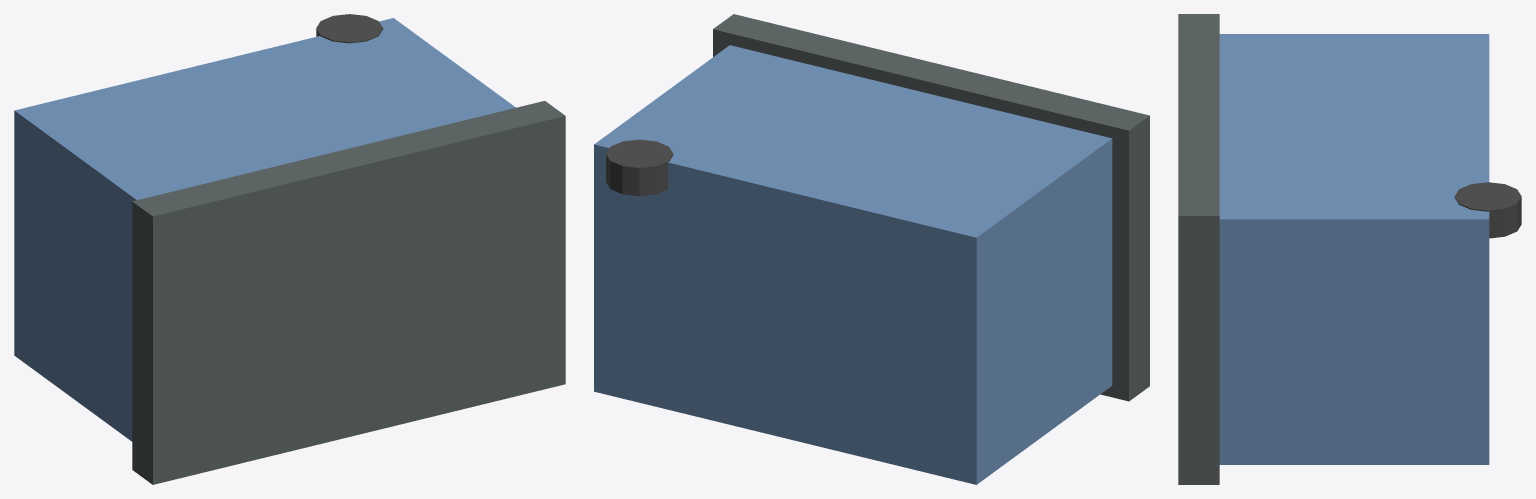
File: city_blue_dumpster.glb
3 renders of one model, left to right at view 1: azimuth 30°, elevation 25°; view 2: azimuth 150°, elevation 25°; view 3: azimuth 270°, elevation 25°, orthographic.
Visible parts, largest first — view 1: lid, body, wheel; view 2: body, lid, wheel; view 3: body, lid, wheel.
Part boxes in pixels (x1,y1,x2,y2): lid: (132, 101, 565, 484); body: (14, 18, 515, 441); wheel: (316, 14, 383, 43); body: (594, 45, 1112, 484); lid: (713, 14, 1149, 401); wheel: (606, 139, 673, 196); body: (1219, 34, 1489, 464); lid: (1178, 14, 1219, 484); wheel: (1454, 182, 1521, 238).
Bounding box in the file's own units: 1.85 × 1.15 × 1.33.
